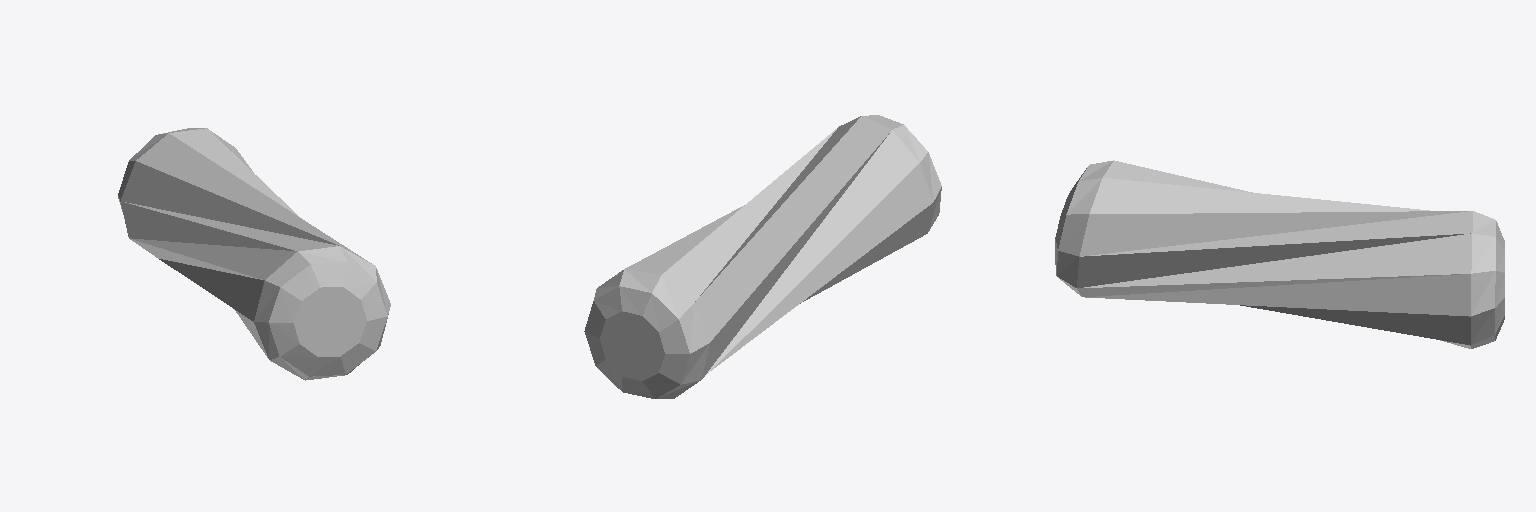
Rendered from wood.obj.
The picture shows the model from 3 angles: view 1: azimuth 30°, elevation 25°; view 2: azimuth 150°, elevation 25°; view 3: azimuth 270°, elevation 25°; orthographic projection.
Parts seen in each view (by area): view 1: 000_Cylinder; view 2: 000_Cylinder; view 3: 000_Cylinder.
Boxes of the visible parts, x1,y1,x2,y2 form: 000_Cylinder: [118, 128, 390, 380]; 000_Cylinder: [584, 115, 941, 398]; 000_Cylinder: [1055, 160, 1504, 348].
Size of the model in its own units: 3.38 by 2.93 by 7.87.